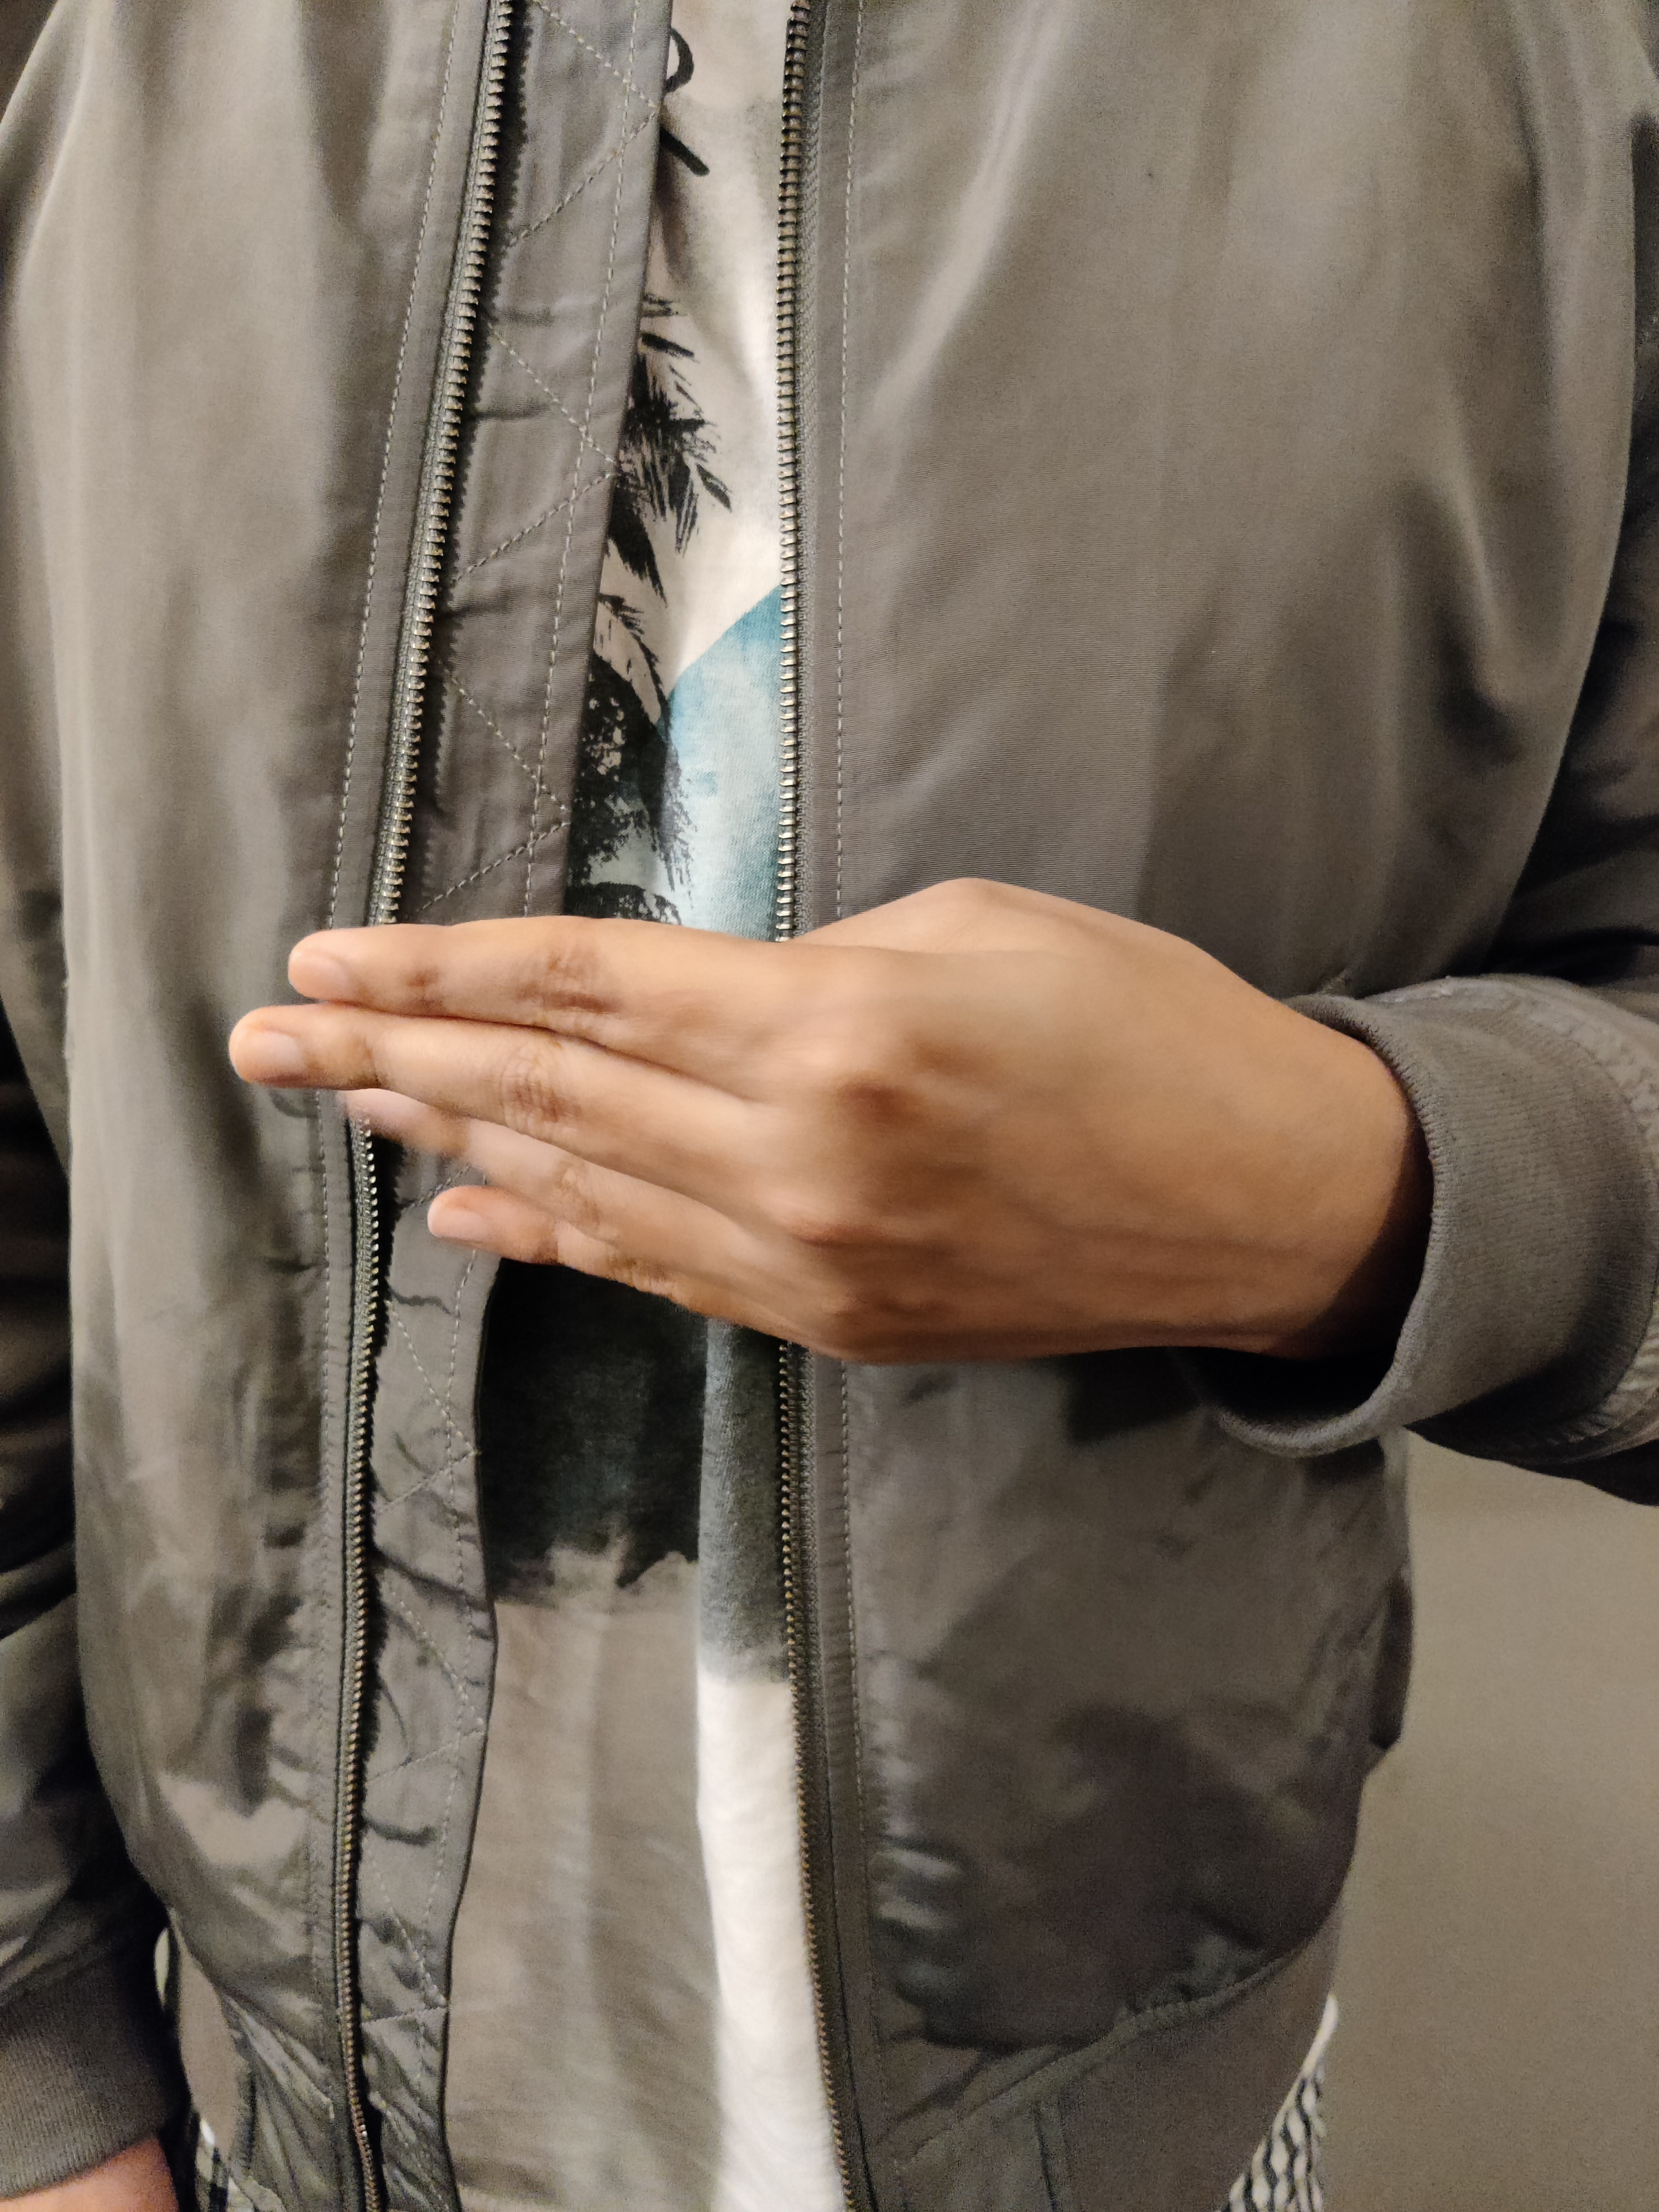right: (75, 599, 1556, 1632)
